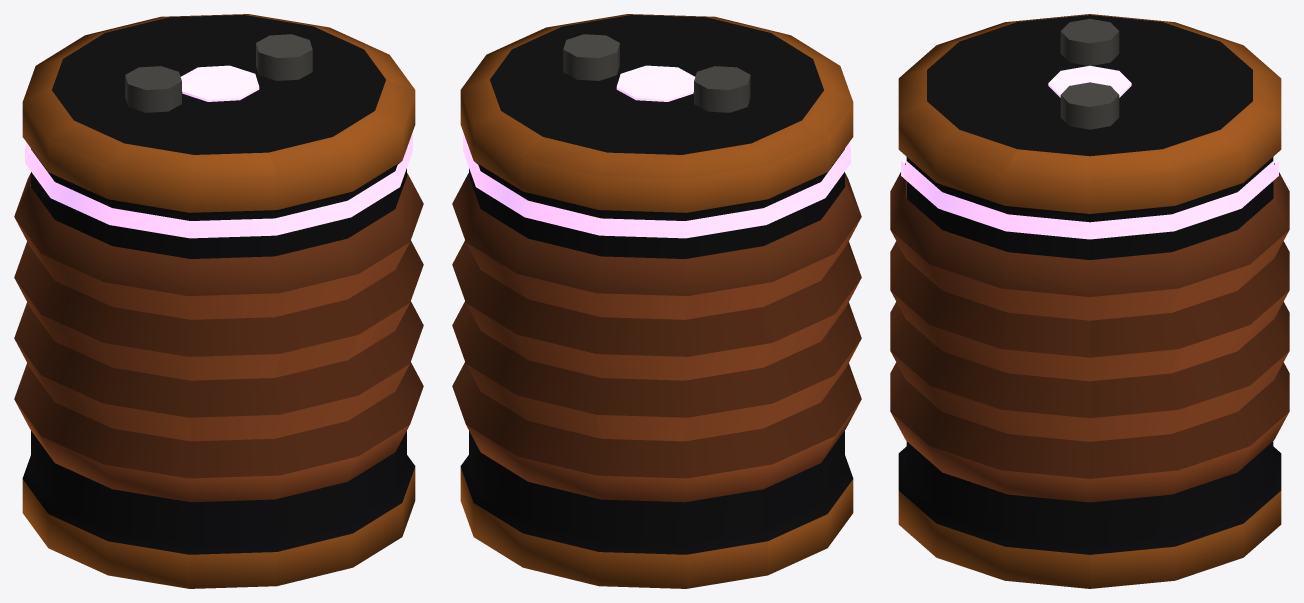
File: capacitor_cell.glb
The picture shows the model from 3 angles, left to right: view 1: azimuth 30°, elevation 25°; view 2: azimuth 150°, elevation 25°; view 3: azimuth 270°, elevation 25°; orthographic projection.
Parts seen in each view (by area): view 1: Mesh; view 2: Mesh; view 3: Mesh.
Boxes of the visible parts, x1,y1,x2,y2 form: Mesh: (14,14,423,588); Mesh: (452,14,861,588); Mesh: (890,14,1289,588).
Size of the model in its own units: 0.49 by 0.6 by 0.4777.
